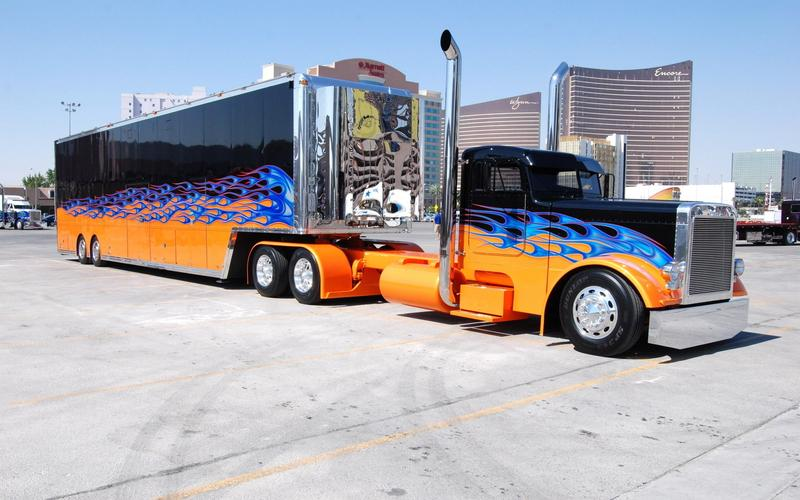卡车: (43, 61, 770, 376)
